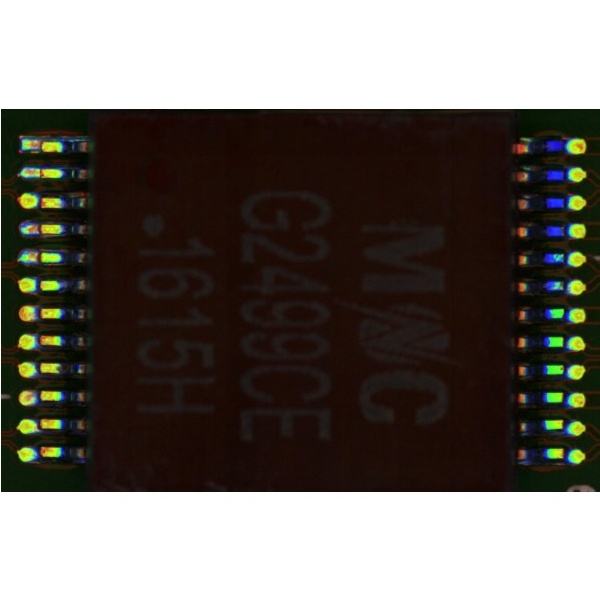Bad_podu: (29, 252, 47, 261), (28, 141, 48, 149), (27, 168, 49, 174), (29, 225, 47, 232)
